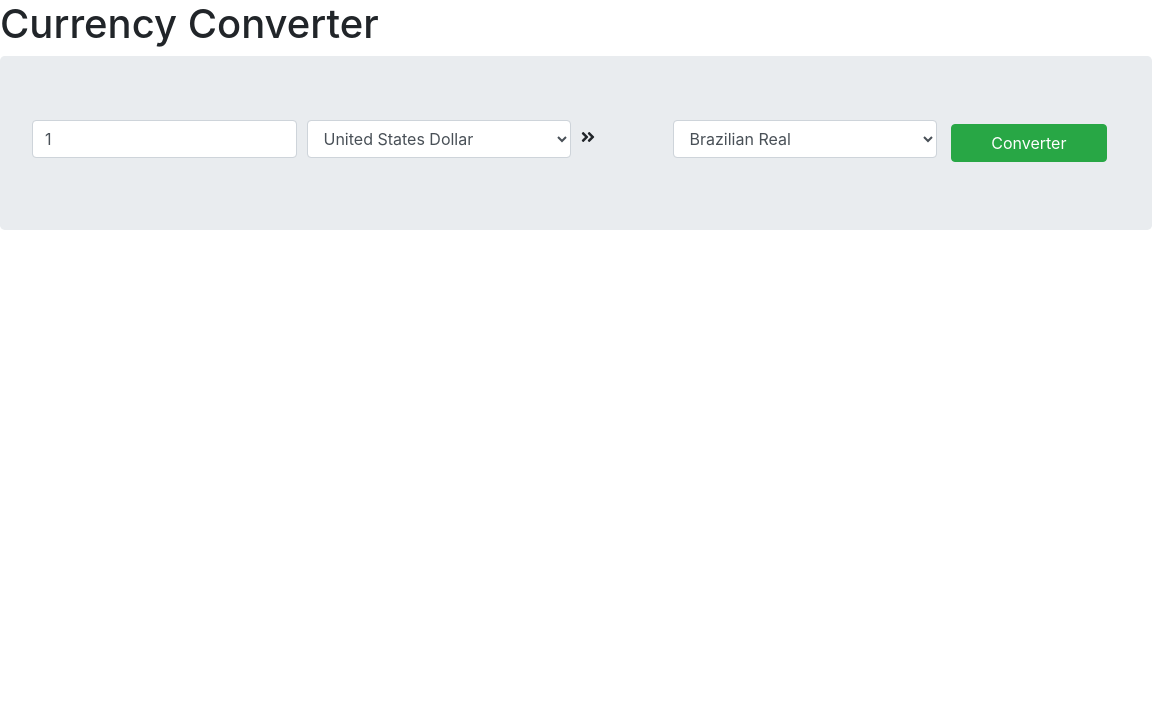
Test: Test CurrencyConverter › deve simular uma conversao de moedas
The image size is (1152, 720).
Click the button with test id "btn-convert" at (1029, 143), box left=951, top=124, right=1107, bottom=162
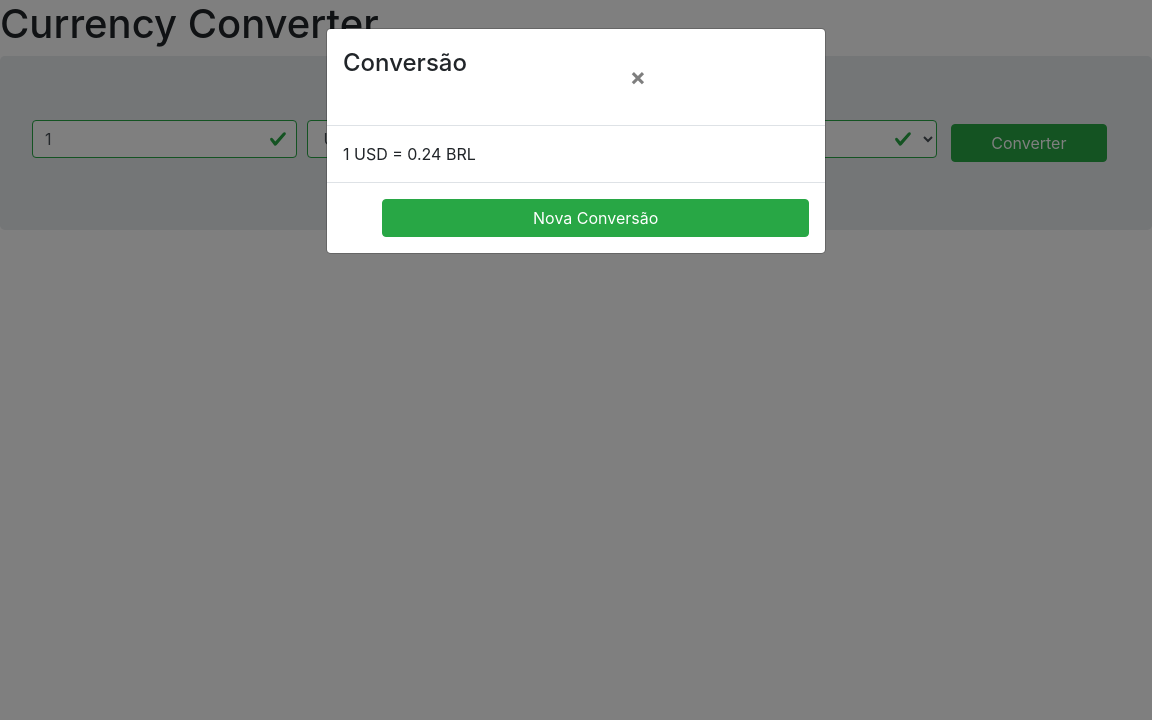
Result: the text with test id "modal" reads "1 USD = 0.24 BRL" at left=343, top=144, right=476, bottom=164
